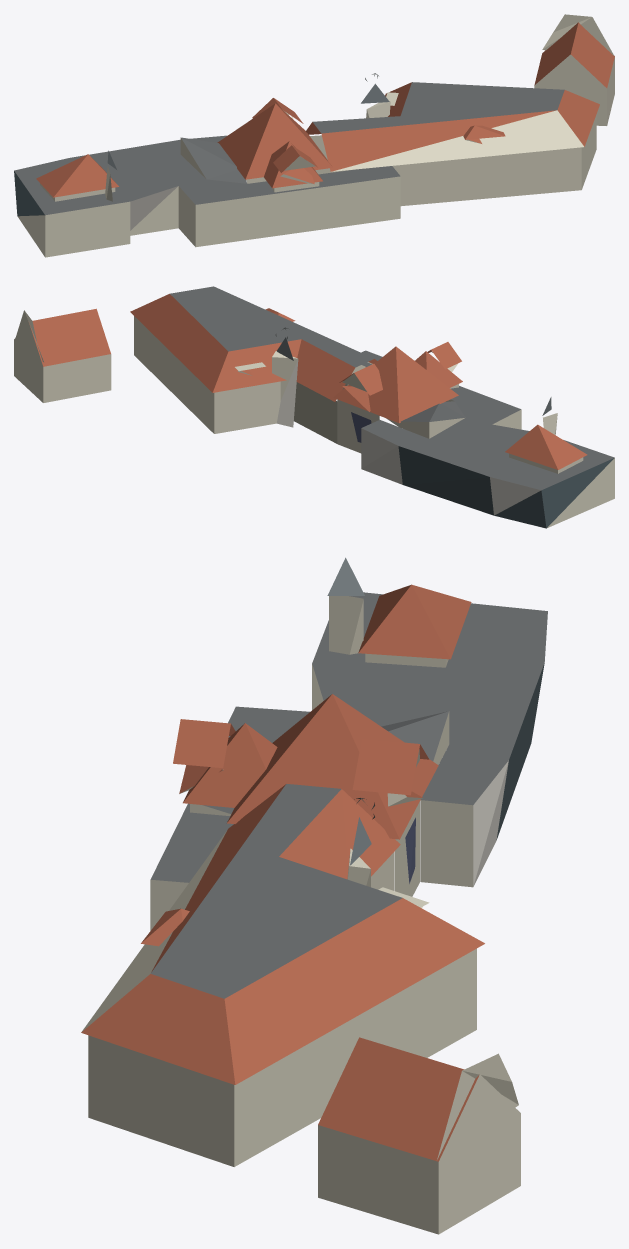
File: stationsplein-paviljoens.lod2.glb
The picture shows the model from 3 angles, top to bottom: view 1: azimuth 30°, elevation 25°; view 2: azimuth 150°, elevation 25°; view 3: azimuth 270°, elevation 25°; orthographic projection. The views are drawn at different scales.
Visible parts, largest first — view 1: lod2; view 2: lod2; view 3: lod2.
Boxes of the visible parts, bbox=[...] form: lod2: bbox=[14, 14, 614, 257]; lod2: bbox=[14, 286, 614, 528]; lod2: bbox=[81, 557, 547, 1234].
Bounding box in the file's own units: 64.7 × 10.4 × 22.7.
